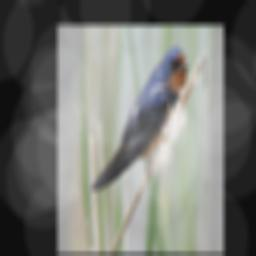Swallow: (90, 45, 191, 192)
